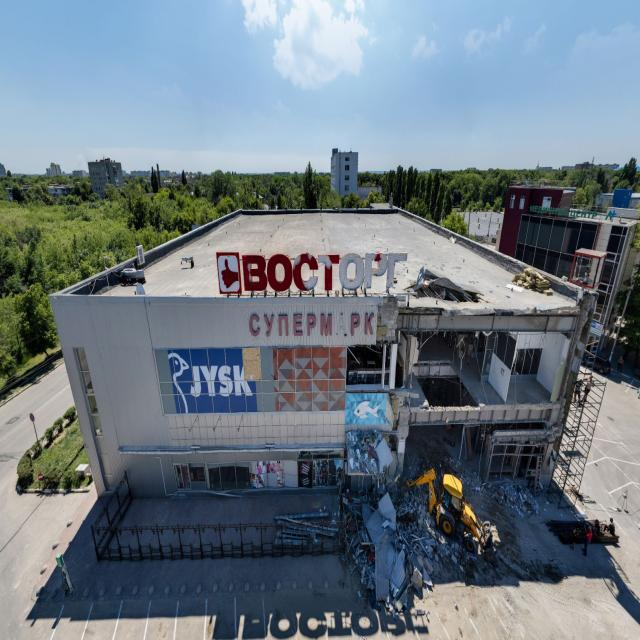building: (47, 203, 600, 511), (497, 183, 639, 362), (88, 156, 124, 199), (330, 147, 358, 198)
